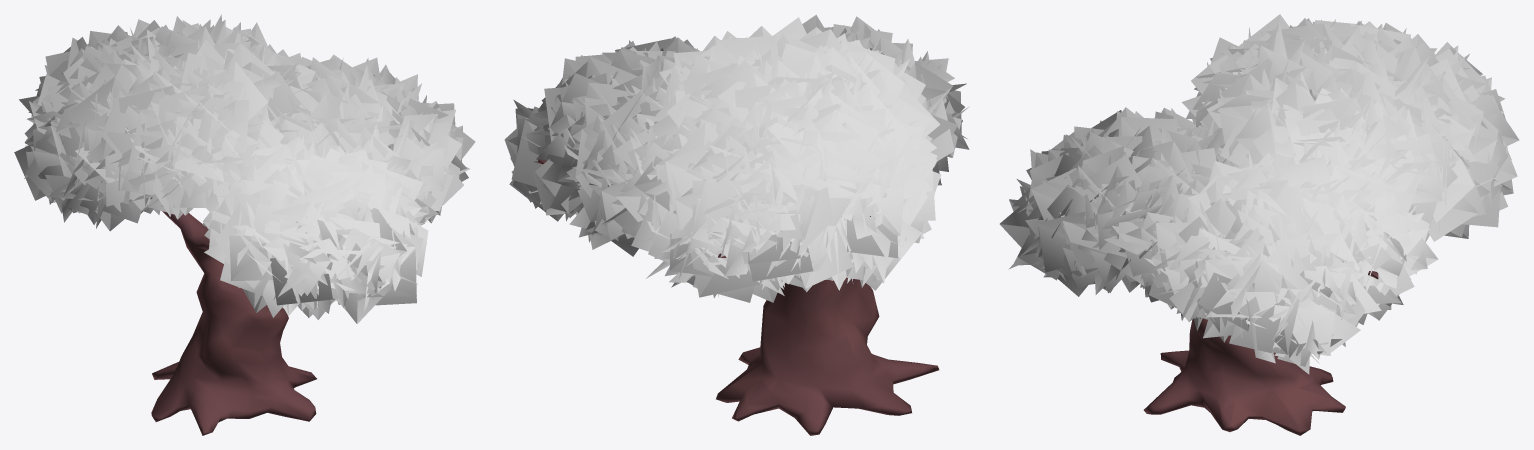
File: ArvoreV1-Final.fbx
3 renders of one model, left to right at view 1: azimuth 30°, elevation 25°; view 2: azimuth 150°, elevation 25°; view 3: azimuth 270°, elevation 25°, orthographic. The views are drawn at different scales.
Parts seen in each view (by area): view 1: tree_LOD0; view 2: tree_LOD0; view 3: tree_LOD0.
Part boxes in pixels (box(x1,y1,x2,y2)): tree_LOD0: box(14, 14, 475, 435); tree_LOD0: box(504, 14, 969, 435); tree_LOD0: box(999, 14, 1519, 435).
Size of what is drawn, in the model's own units: 6.69 by 5.56 by 7.12.
